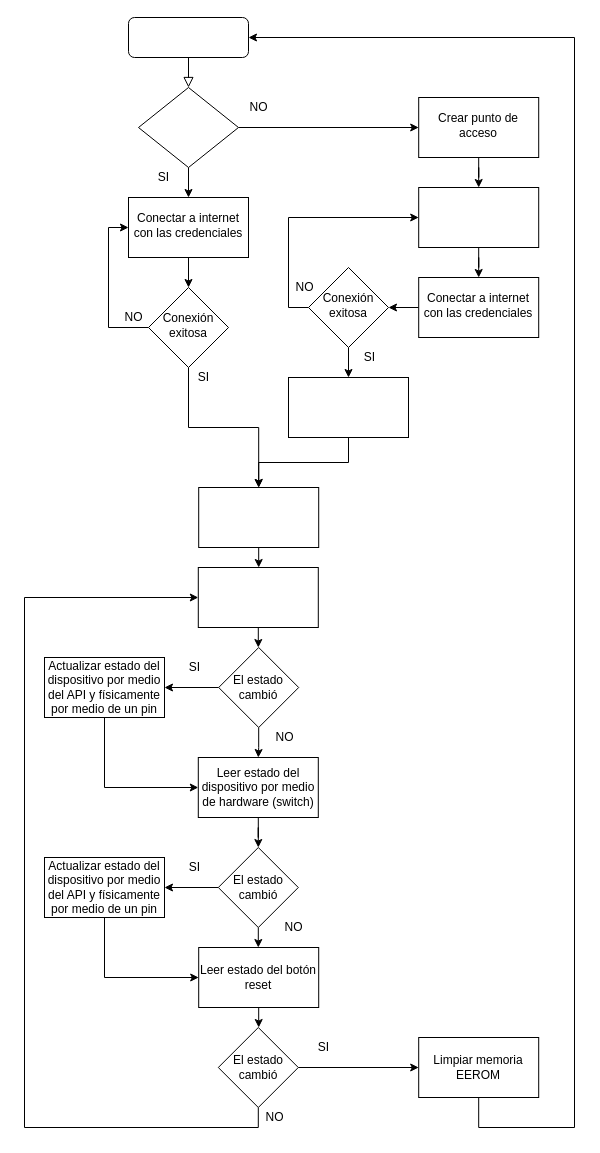
Image size: 600x1153. Some labels were removed from this diagram. The shapes that lost their labels are listed below. From the top down, each one's centre as x and y in pixels, then its label:
At (x=188, y=37): "Inicio".
At (x=188, y=127): "¿Existen credenciales en EEROM?".
At (x=478, y=217): "Solicitar credenciales al usuario".
At (x=348, y=407): "Guardar credenciales en memoria EEROM".
At (x=258, y=517): "Inicializar pines y variables a utilizar".
At (x=257, y=597): "Solicitar estado del dispositivo al API".
